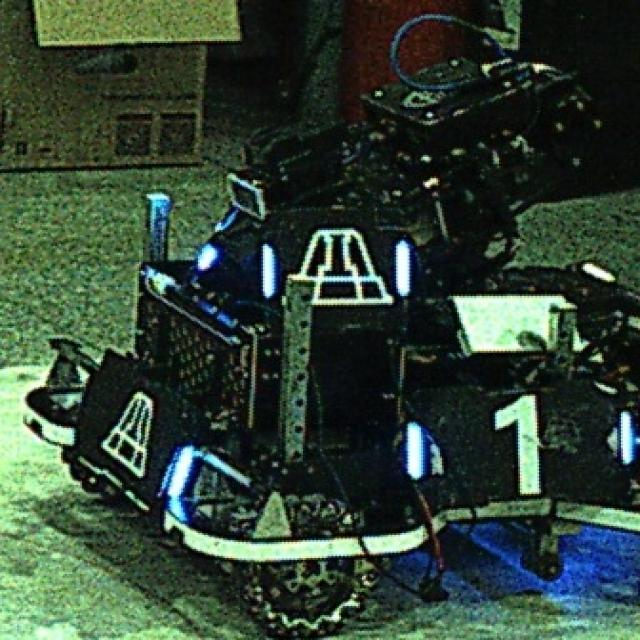B1: (406, 390, 638, 492)
